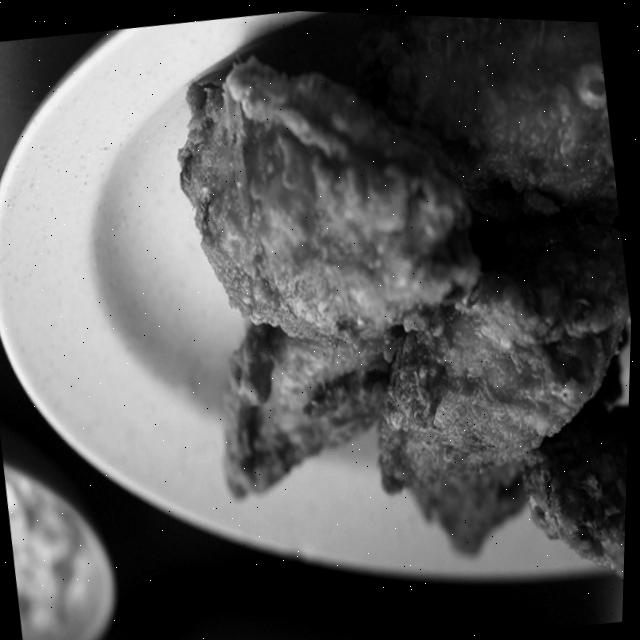鸡肉料理 含炸鸡: (170, 5, 640, 581)
